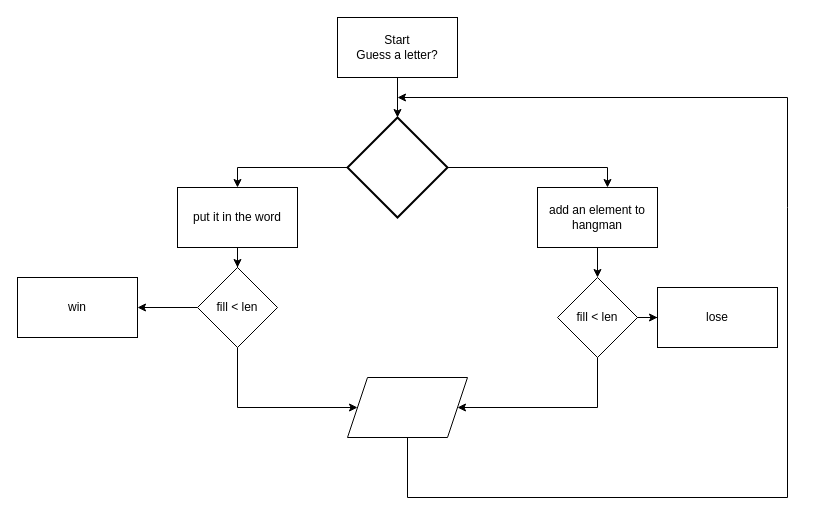
The diagram is 813 pixels wide and 523 high, and some of its shapes have lost their labels. The centre of each missing label's shape, as x and y in pixels:
Guess another: the point at 407,407
included: the point at 397,167
